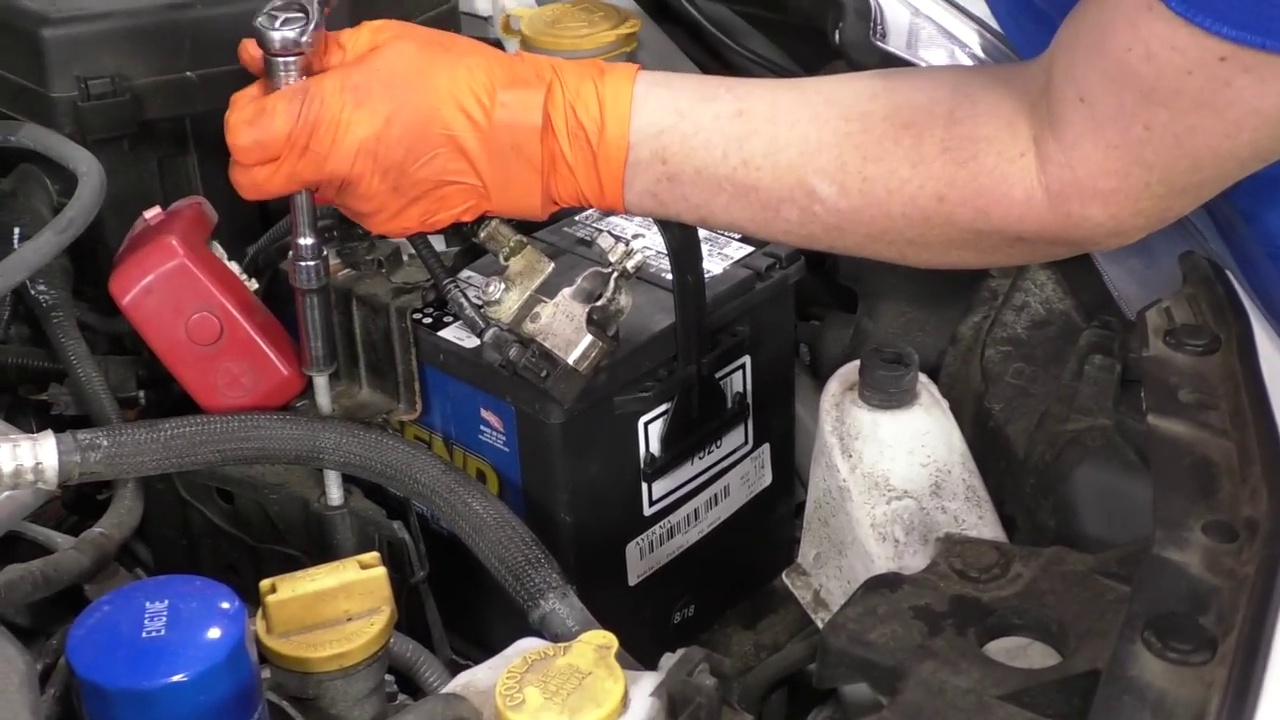battery: (272, 173, 786, 391)
